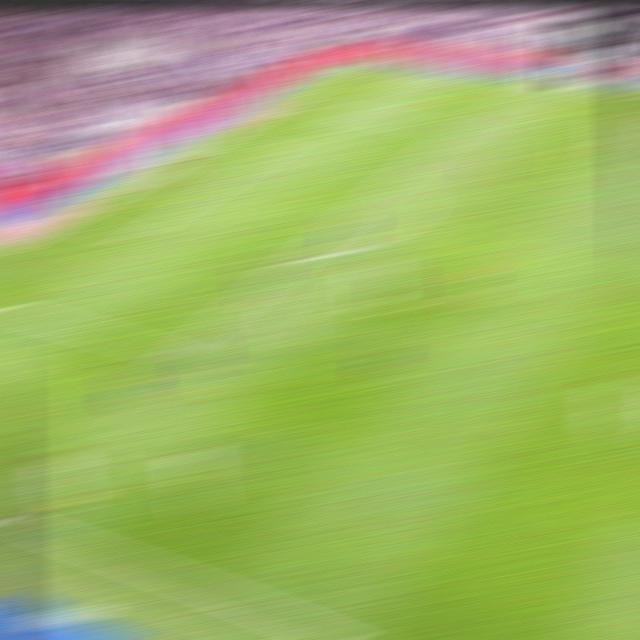bigarea_bottom_inner: (158, 342, 194, 365)
bigarea_top_inner: (444, 124, 474, 135)
bigarea_top_outter: (272, 96, 303, 105)
bottom_arc_area_intersection: (282, 250, 314, 263)
corner: (340, 60, 372, 66)
smallarea_top_inner: (260, 148, 288, 154)
top_arc_area_intersection: (378, 173, 410, 187)
